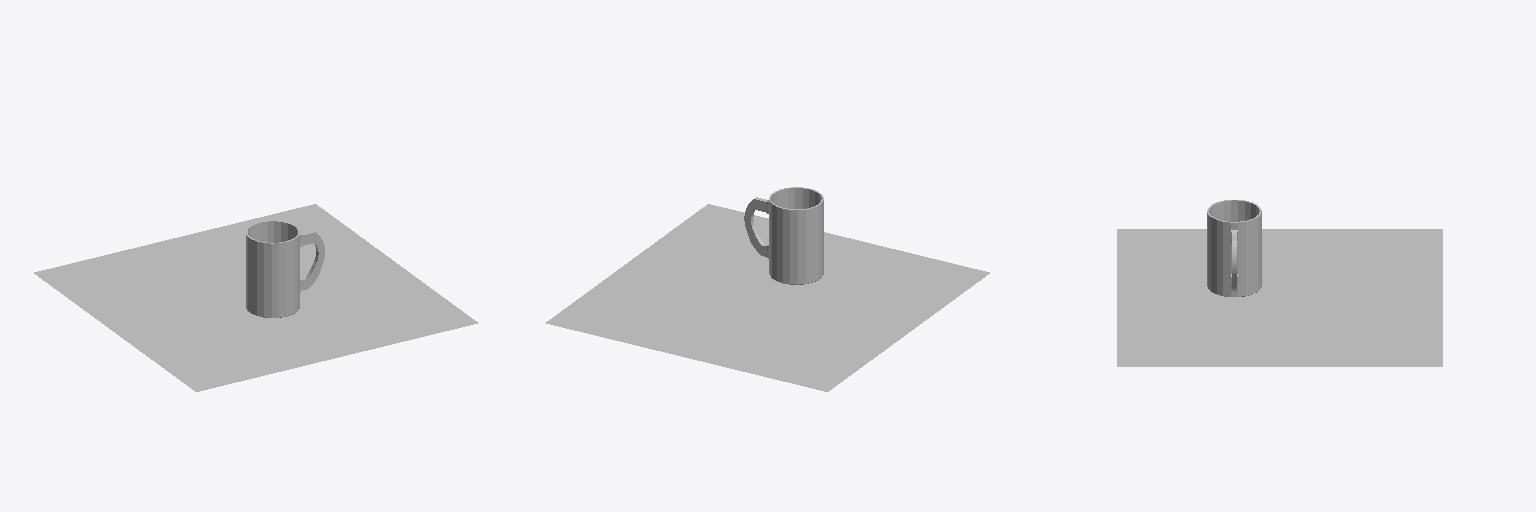
Rendered from FinalGelas.obj.
3 renders of one model, left to right at view 1: azimuth 30°, elevation 25°; view 2: azimuth 150°, elevation 25°; view 3: azimuth 270°, elevation 25°, orthographic.
Visible parts, largest first — view 1: Plane, Cylinder; view 2: Plane, Cylinder; view 3: Plane, Cylinder.
Boxes of the visible parts, <box> form: Plane: <box>34,204,477,391</box>; Cylinder: <box>246,220,324,317</box>; Plane: <box>546,204,989,391</box>; Cylinder: <box>744,187,823,284</box>; Plane: <box>1117,229,1442,366</box>; Cylinder: <box>1207,200,1261,296</box>.
Bounding box in the file's own units: 0.5 × 0.1421 × 0.5.